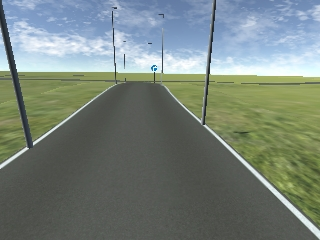right: (150, 65, 158, 72)
